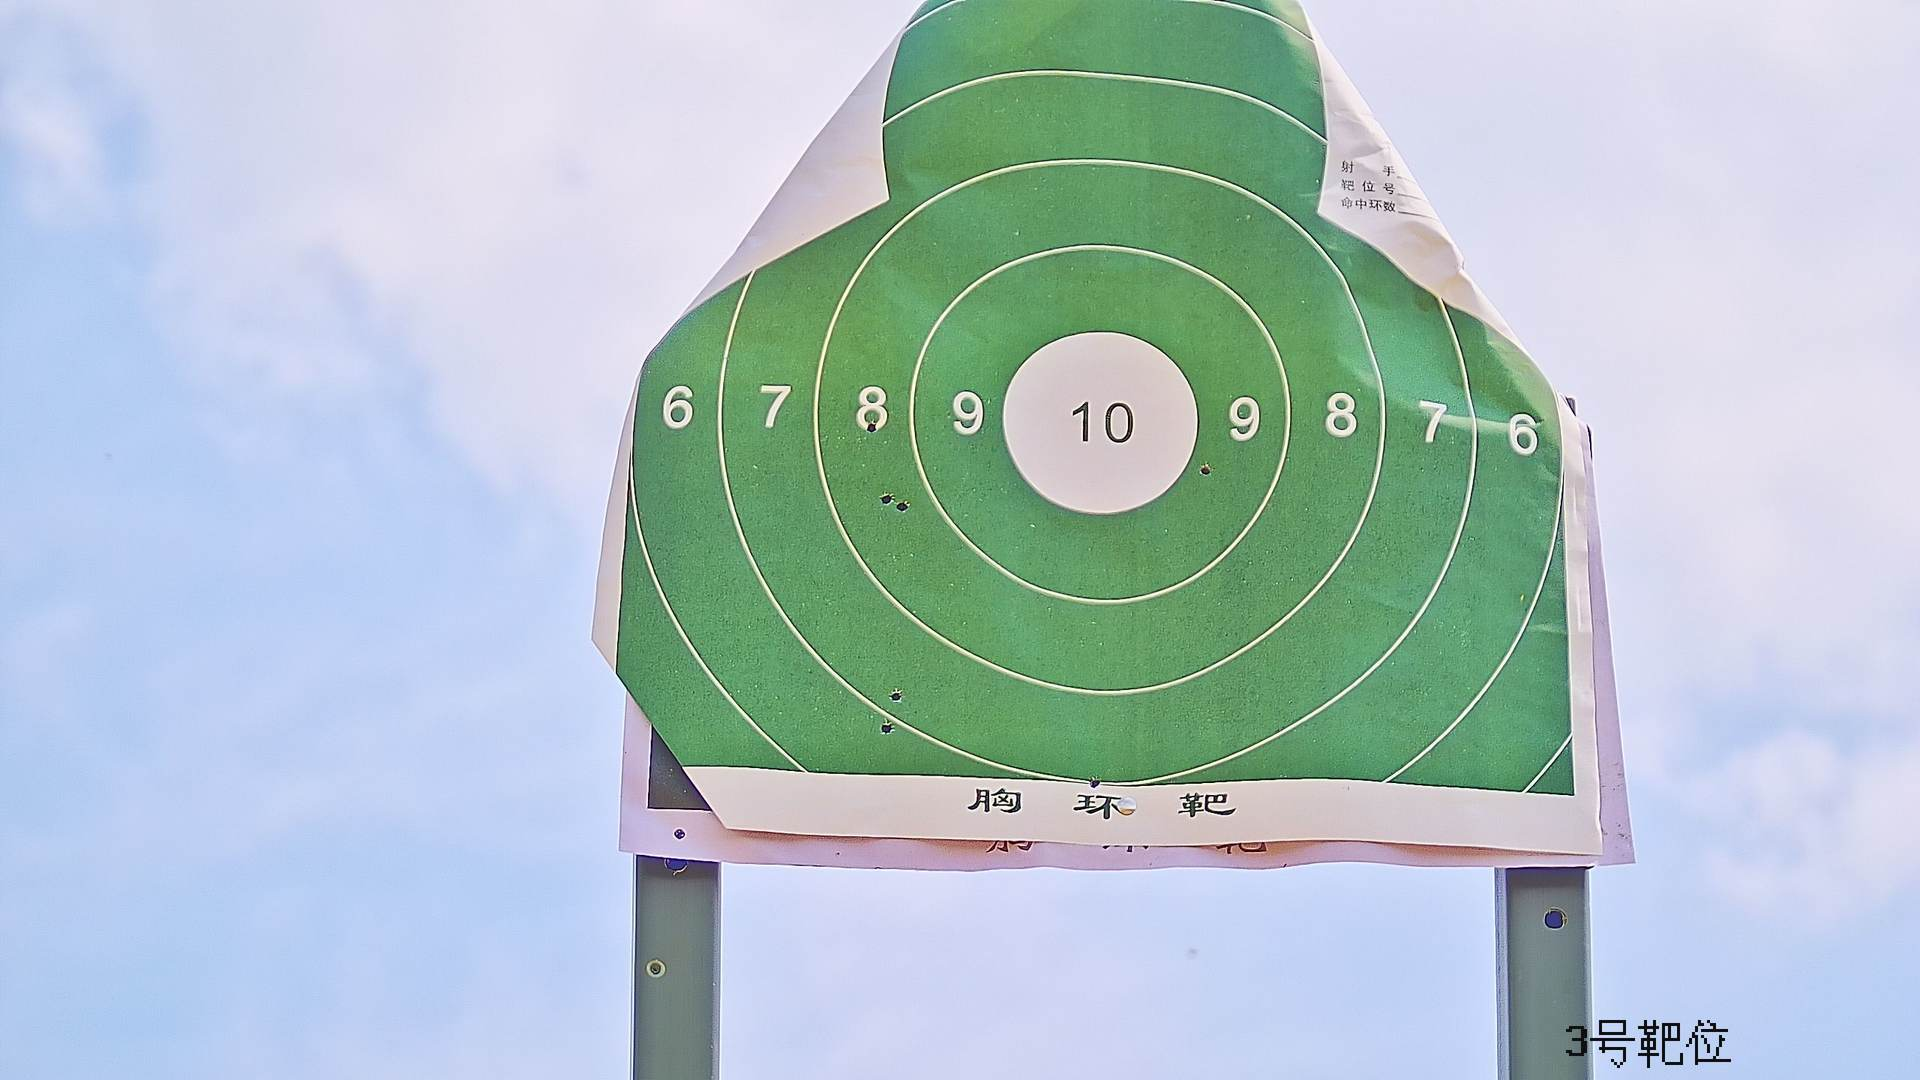hole: (895, 500, 909, 512), (1200, 464, 1215, 475), (880, 492, 891, 504), (881, 721, 893, 733), (864, 421, 877, 431), (889, 690, 899, 700), (1088, 778, 1098, 789)
kernel: (1095, 426, 1105, 429)
target: (618, 3, 1577, 822)
ten: (997, 327, 1203, 520)
